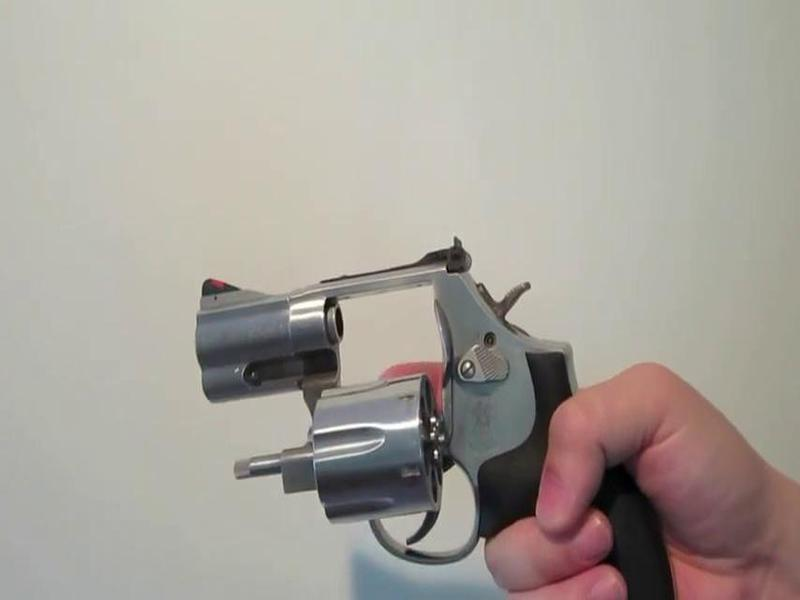Revolver: (181, 225, 677, 600)
